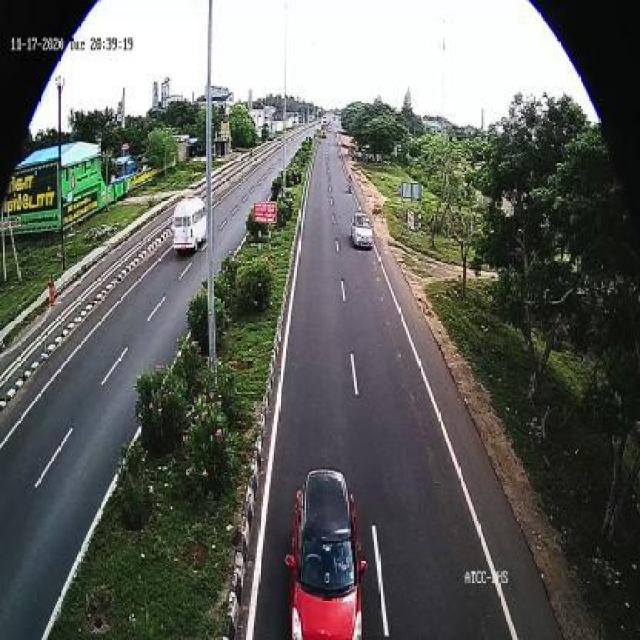car: (288, 463, 366, 640), (346, 210, 380, 256)
